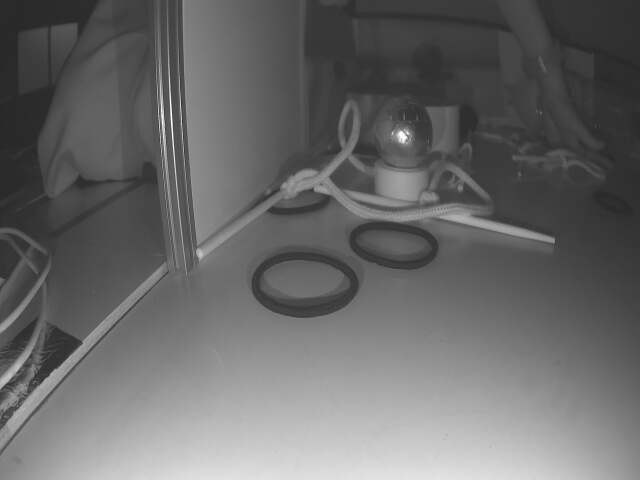Live: (378, 100, 430, 165)
